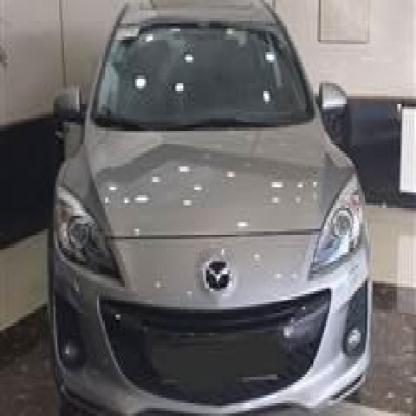Car: (40, 0, 374, 416)
